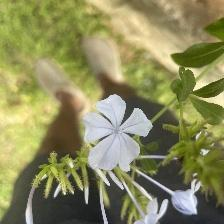chitrak: (81, 94, 154, 174)
